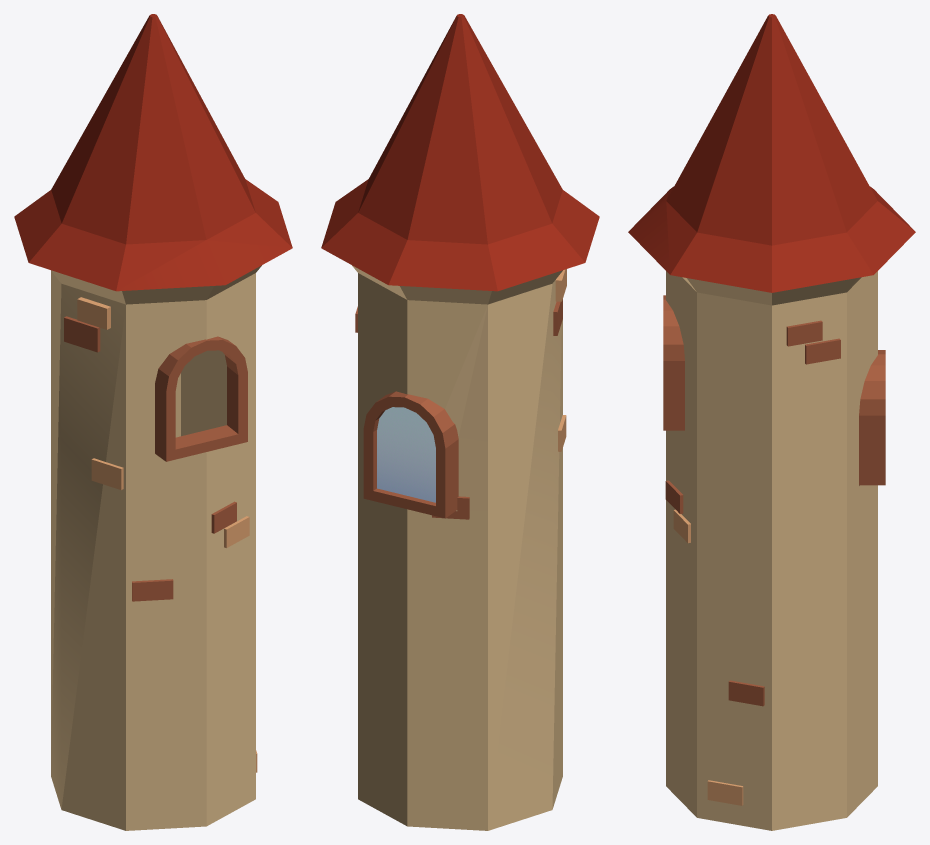
File: Tower_3-mdedit.glb
The picture shows the model from 3 angles, left to right: view 1: azimuth 30°, elevation 25°; view 2: azimuth 150°, elevation 25°; view 3: azimuth 270°, elevation 25°; orthographic projection.
Parts seen in each view (by area): view 1: Tower_3; view 2: Tower_3; view 3: Tower_3.
Part boxes in pixels (x1,y1,x2,y2): Tower_3: [14, 14, 292, 830]; Tower_3: [321, 14, 599, 830]; Tower_3: [628, 14, 915, 830].
Bounding box in the file's own units: 2 × 5.91 × 2.
5 materials, 1 textured.
